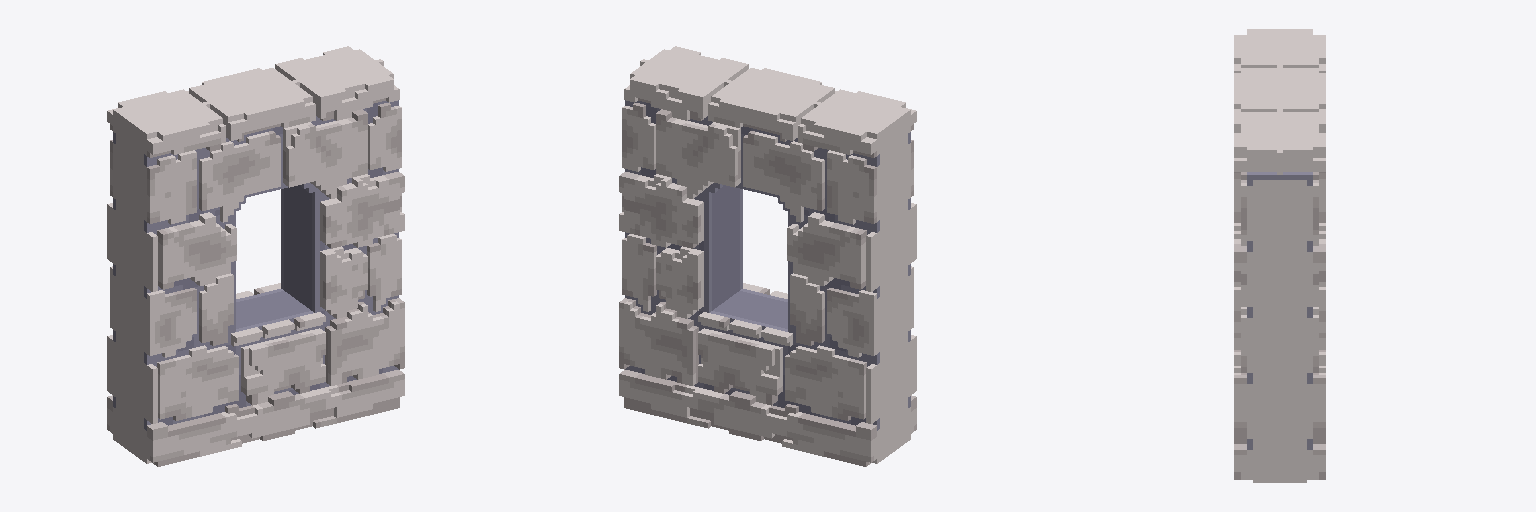
3 views of the same model, side by side, from view 1: azimuth 30°, elevation 25°; view 2: azimuth 150°, elevation 25°; view 3: azimuth 270°, elevation 25° (orthographic).
Parts seen in each view (by area): view 1: object 1; view 2: object 1; view 3: object 1.
Part boxes in pixels (bbox=[...]): object 1: bbox=[107, 46, 404, 466]; object 1: bbox=[619, 46, 916, 466]; object 1: bbox=[1234, 29, 1325, 482].
Size of the model in its own units: 4.8 by 6 by 1.5.
Materials: 1 (1 with a texture image).